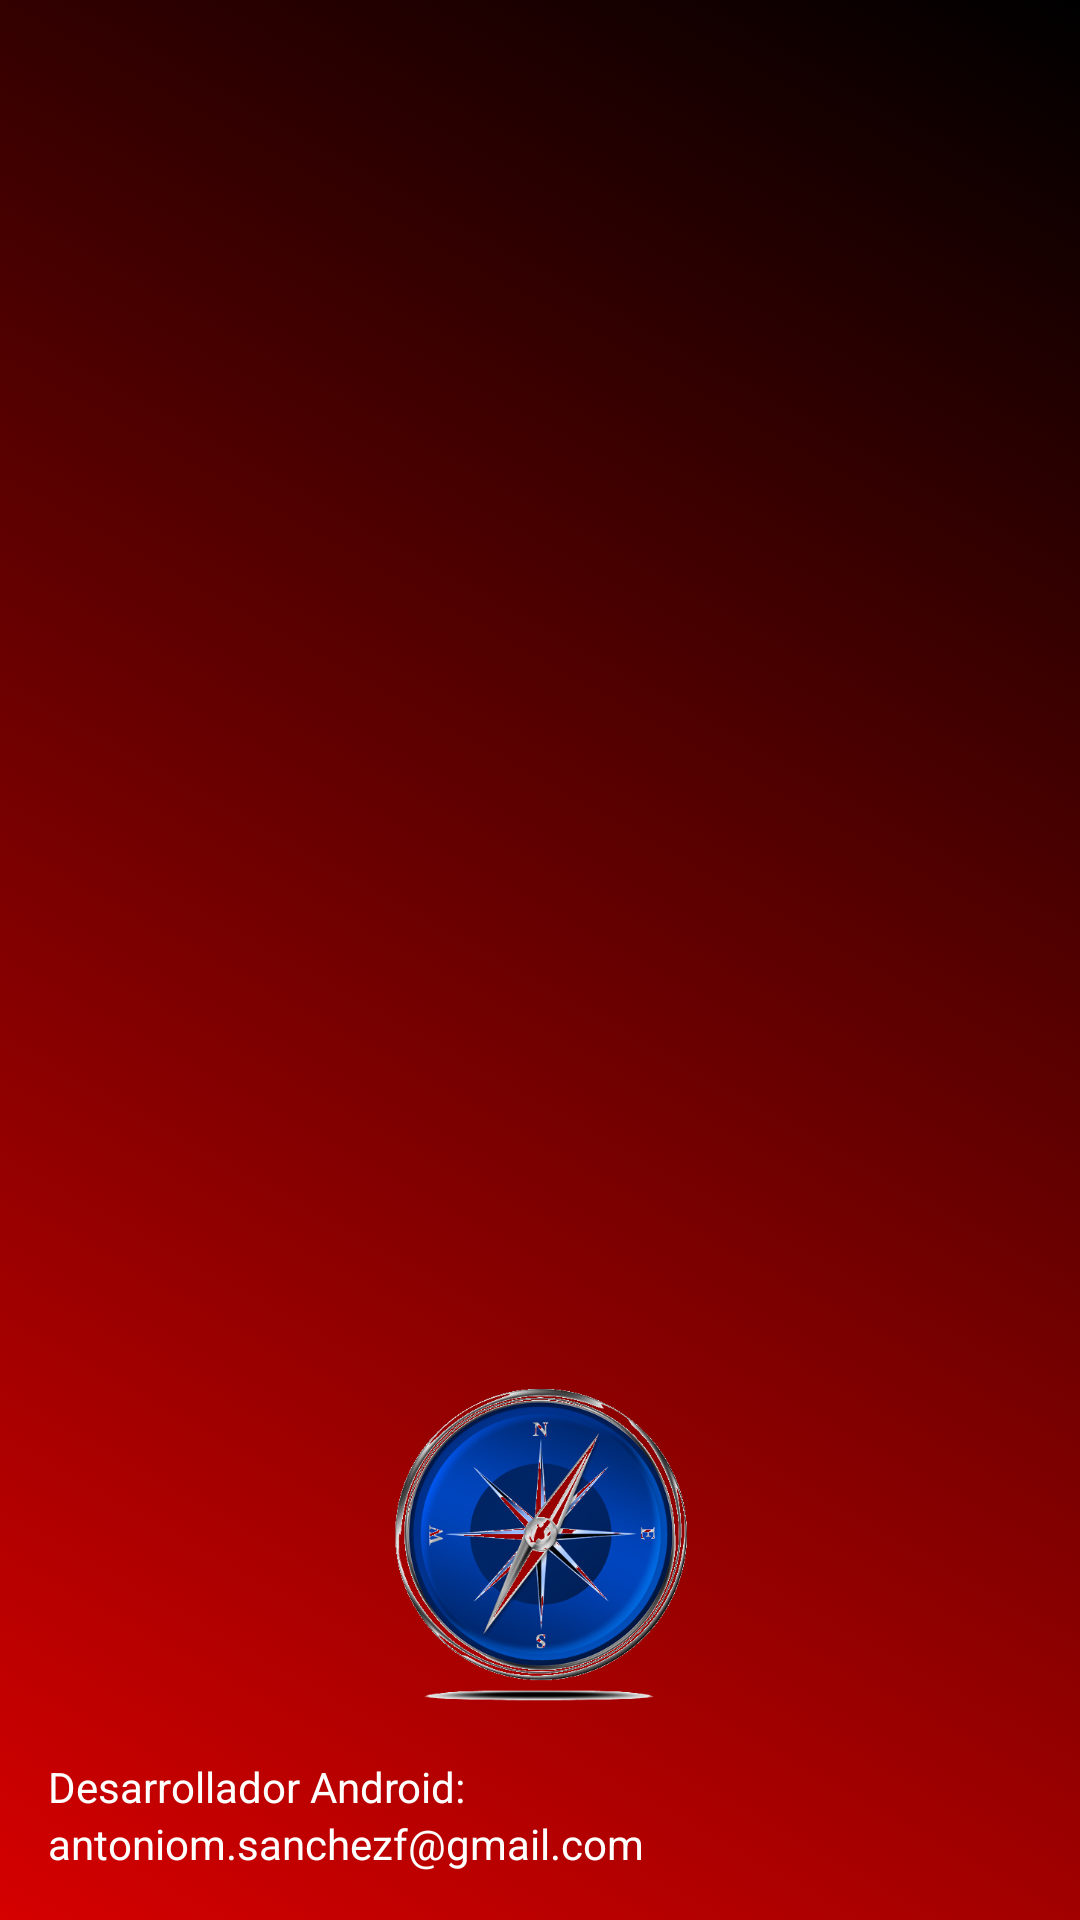

Icons on this 1080px×1920px Android screen, each with the point to tap as (x,y):
brujula: (550,1540)
